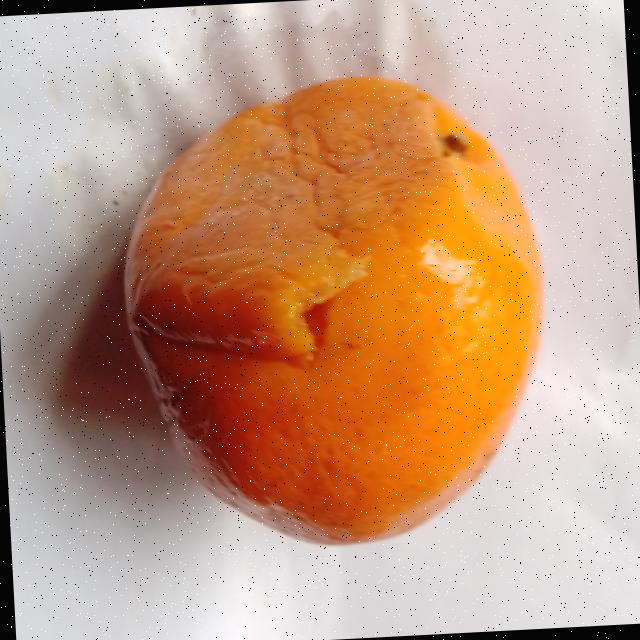Rotten: (116, 70, 557, 562)
